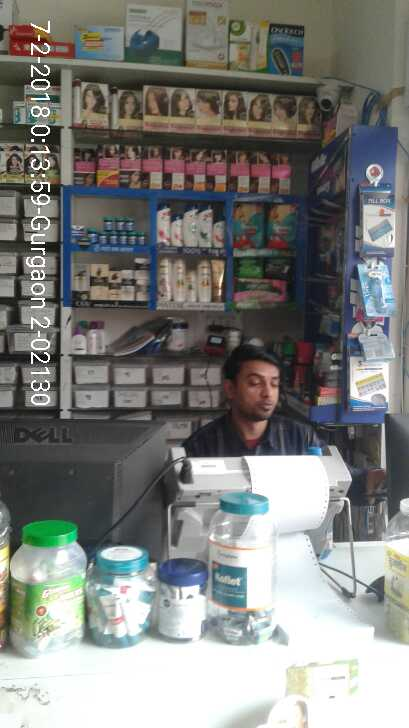vicks: (67, 209, 156, 252)
